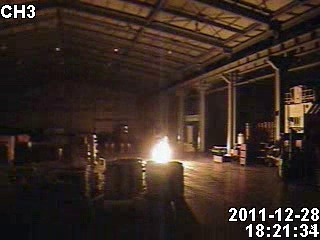fire: (147, 133, 174, 164)
